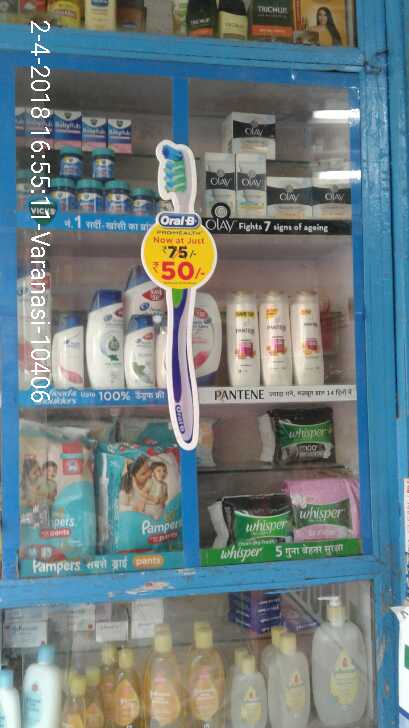vicks: (19, 108, 156, 211)
